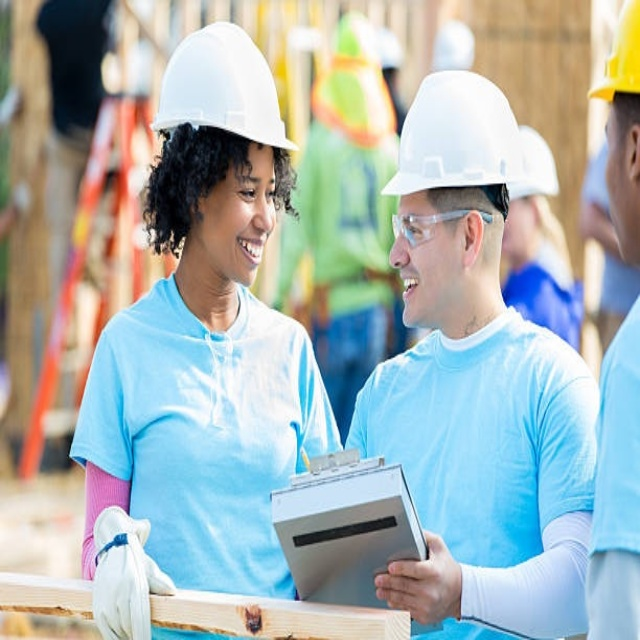Gafas: (391, 204, 493, 242)
Guantes: (86, 502, 177, 637)
Sin_gafas: (221, 171, 279, 215)
Sin_guantes: (374, 524, 459, 632)
Sin_mascara: (388, 248, 428, 325), (228, 231, 268, 273)
